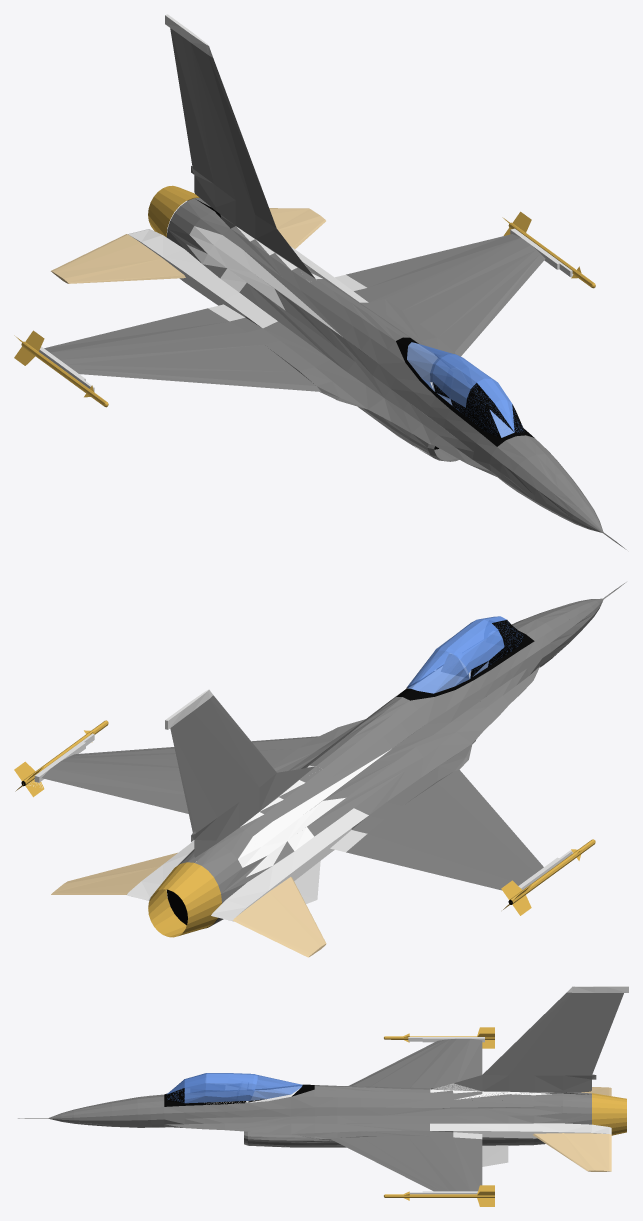
The picture shows the model from 3 angles, top to bottom: view 1: azimuth 30°, elevation 25°; view 2: azimuth 150°, elevation 25°; view 3: azimuth 270°, elevation 25°; orthographic projection. The views are drawn at different scales.
Visible parts, largest first — view 1: F16.lw_1_1; view 2: F16.lw_1_1; view 3: F16.lw_1_1.
Part boxes in pixels (bbox=[...]): F16.lw_1_1: bbox=[14, 14, 626, 549]; F16.lw_1_1: bbox=[14, 582, 626, 957]; F16.lw_1_1: bbox=[18, 986, 628, 1206].
Bounding box in the file's own units: 0.9369 × 1.48 × 0.4574.
